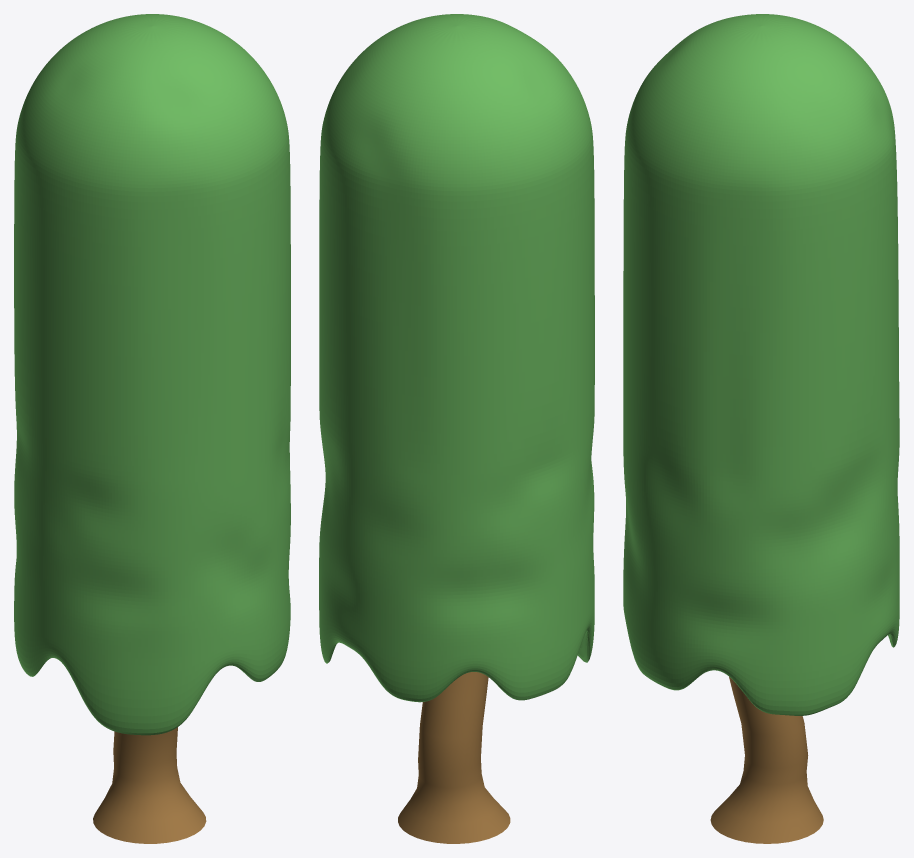
File: tree3.fbx
3 views of the same model, side by side, from view 1: azimuth 30°, elevation 25°; view 2: azimuth 150°, elevation 25°; view 3: azimuth 270°, elevation 25° (orthographic).
Visible parts, largest first — view 1: tree.006, less curvy.004; view 2: tree.006, less curvy.004; view 3: tree.006, less curvy.004.
Part boxes in pixels (x1=…): tree.006: x1=14, y1=14, x2=290, y2=735; less curvy.004: x1=93, y1=727, x2=206, y2=843; tree.006: x1=319, y1=14, x2=594, y2=702; less curvy.004: x1=398, y1=672, x2=510, y2=843; tree.006: x1=623, y1=14, x2=899, y2=715; less curvy.004: x1=710, y1=677, x2=823, y2=843.
Size of the model in its own units: 123 by 389 by 123.
